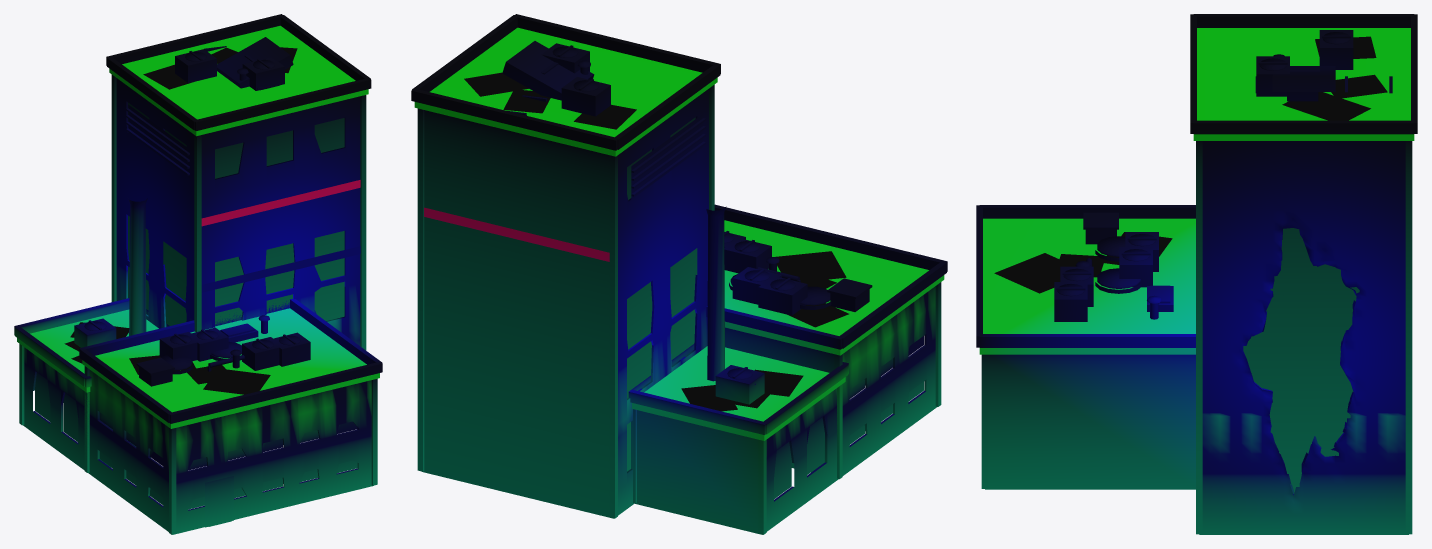
Rendered from industrialplant_damaged.glb.
The picture shows the model from 3 angles, left to right: view 1: azimuth 30°, elevation 25°; view 2: azimuth 150°, elevation 25°; view 3: azimuth 270°, elevation 25°; orthographic projection. The views are drawn at different scales.
Visible parts, largest first — view 1: lod0; view 2: lod0; view 3: lod0.
Part boxes in pixels (x1=…): lod0: x1=14, y1=14, x2=382, y2=534; lod0: x1=411, y1=14, x2=947, y2=534; lod0: x1=976, y1=14, x2=1417, y2=534.
Size of what is drawn, in the model's own units: 18.8 by 21.35 by 19.8.
